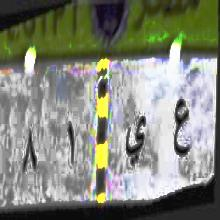1: (62, 117, 78, 170)
8: (21, 126, 38, 182)
ain: (172, 93, 192, 162)
yaa: (123, 108, 147, 174)
